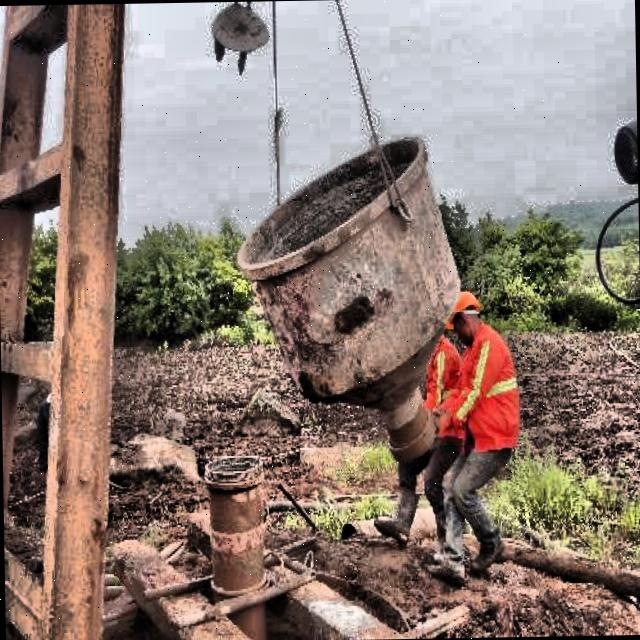helmet: (442, 280, 484, 344)
